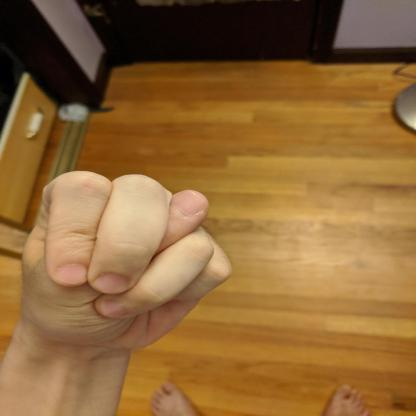N: (6, 171, 231, 364)
